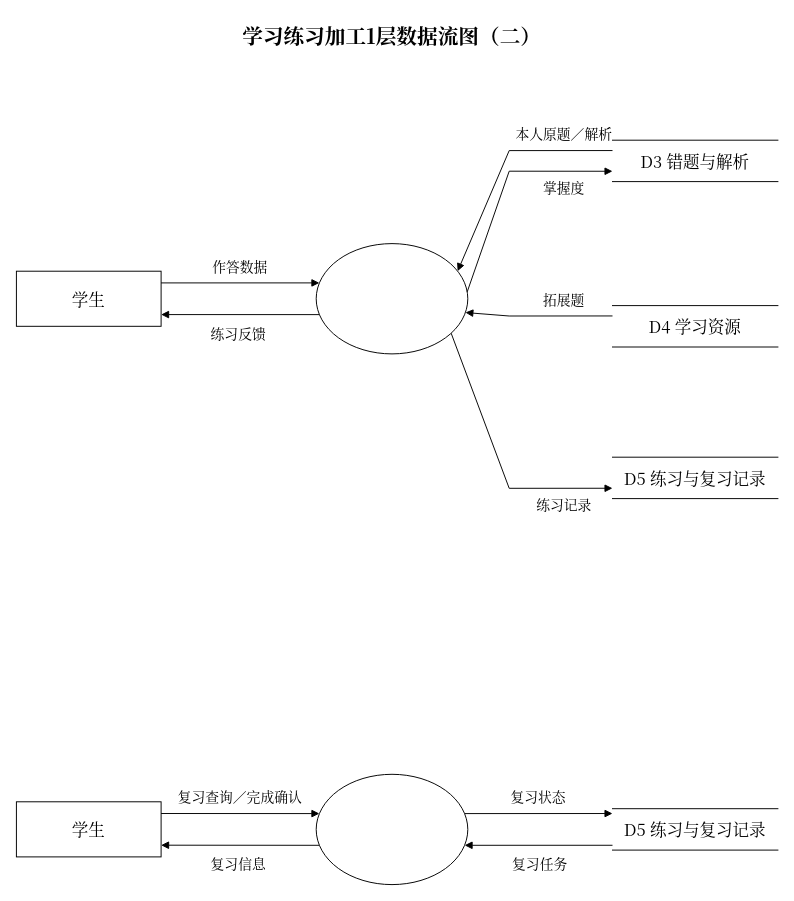
The diagram is 794 pixels wide and 901 high, and some of its shapes have lost their labels. The shapes that lost their labels are listed below. From the top down, each one's centre as x and y in pixels, then its label:
At [391,298]: "P4.3 记录作答结果".
At [391,829]: "P4.4 更新复习状态".
